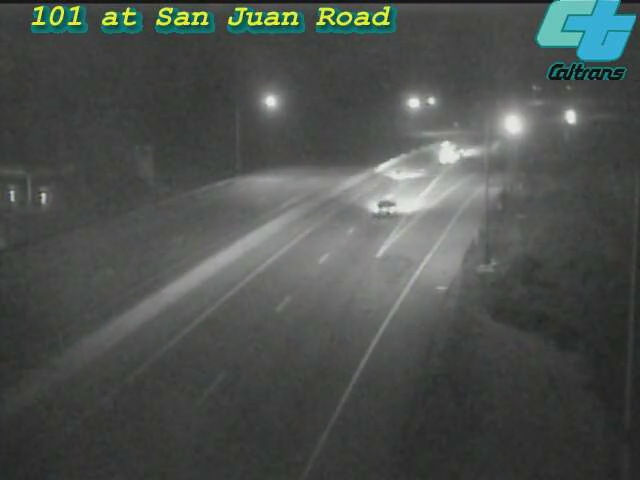vehicle: (360, 134, 440, 214), (346, 167, 426, 247), (488, 99, 538, 149), (547, 91, 597, 141), (423, 129, 473, 179)
